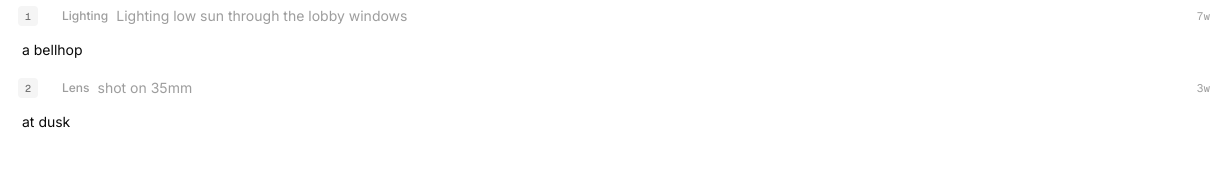
PromptBlocks › draws notes dimmed with their number, title and word count
Expected: the button with aria-label "note 2, lens" shows "3w", [18, 76, 1210, 100]
Click the button with aria-label "note 1, lighting" at (85, 16), box [18, 4, 1210, 28]
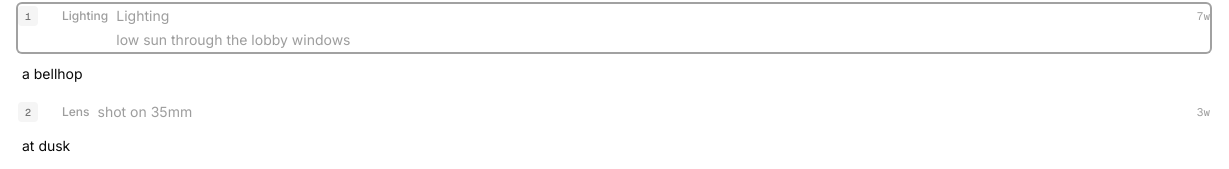
Expected: the button with aria-label "note 1, lighting" is expanded
Click the button with aria-label "note 1, lighting" at (85, 16), box [18, 4, 1210, 52]
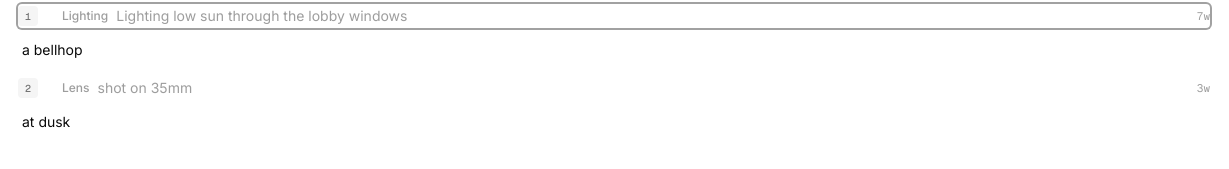
Expected: the button with aria-label "note 1, lighting" is collapsed, [18, 4, 1210, 28]
